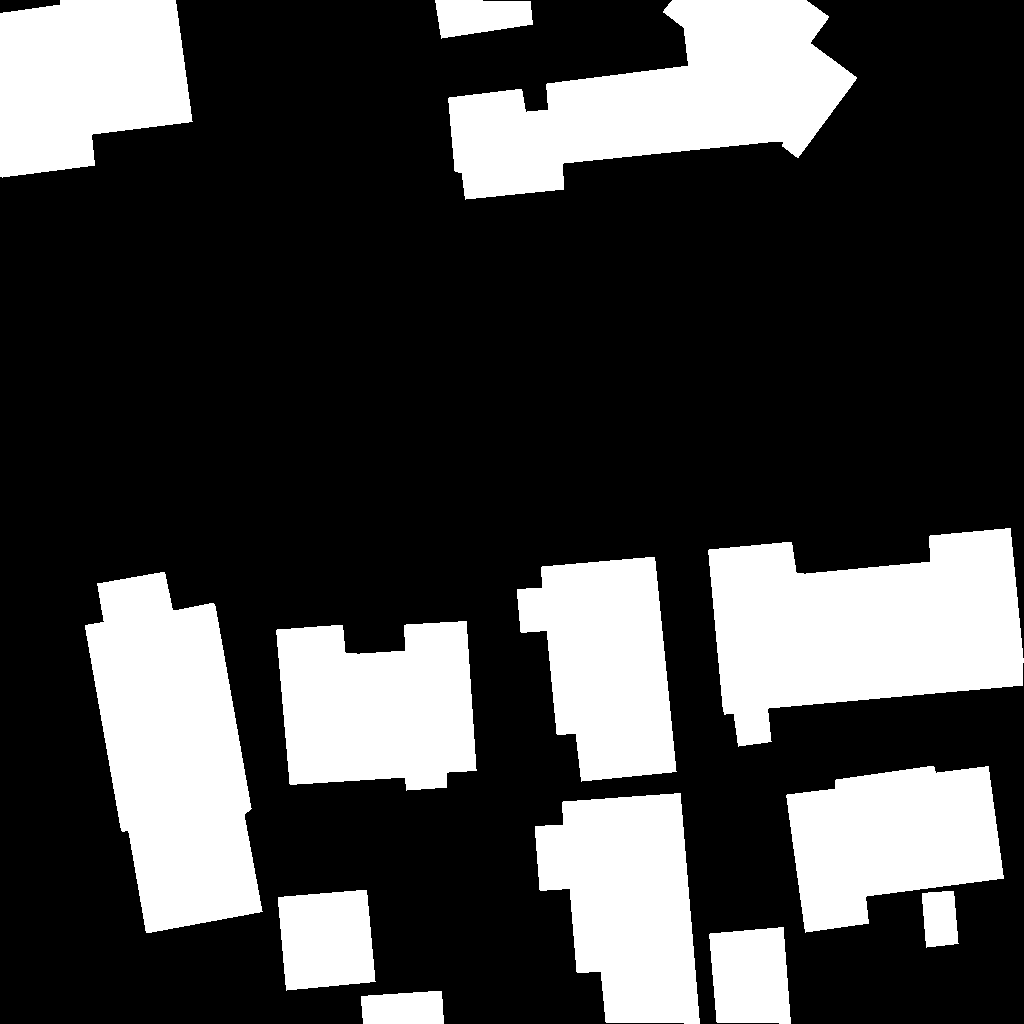building: (448, 0, 858, 200), (708, 528, 1024, 747), (85, 572, 263, 934), (535, 793, 701, 1024), (786, 766, 1005, 933), (517, 557, 677, 782), (0, 0, 193, 178), (276, 621, 477, 791), (709, 927, 851, 1024), (278, 890, 376, 991), (435, 0, 534, 39), (361, 991, 445, 1024), (922, 891, 959, 948)
